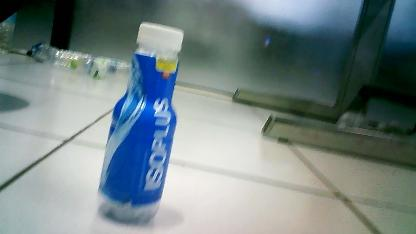Plastic Bottle: (92, 13, 184, 225)
